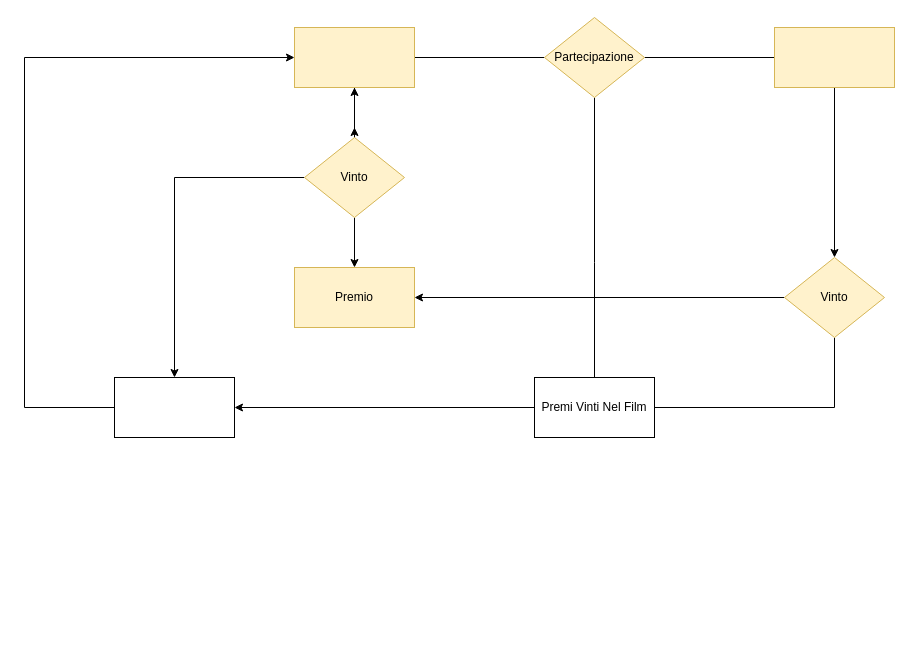
Image size: 912x653. Some labels were removed from this diagram. The shapes that lost their labels are listed below. From the top down, each one's centre as x and y in pixels, then its label:
the point at 354,57: Film
the point at 834,57: Attori
the point at 174,407: Rating
